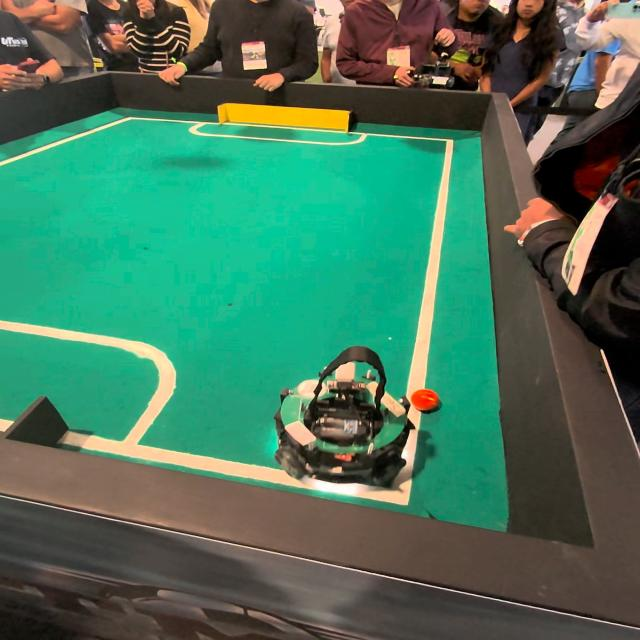Robot: (281, 343, 415, 490)
pelota: (413, 389, 441, 412)
